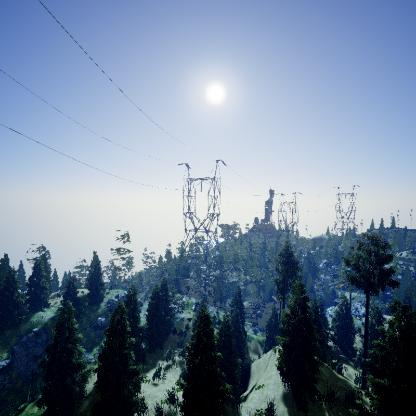tower: (173, 156, 229, 297), (332, 183, 362, 240)
